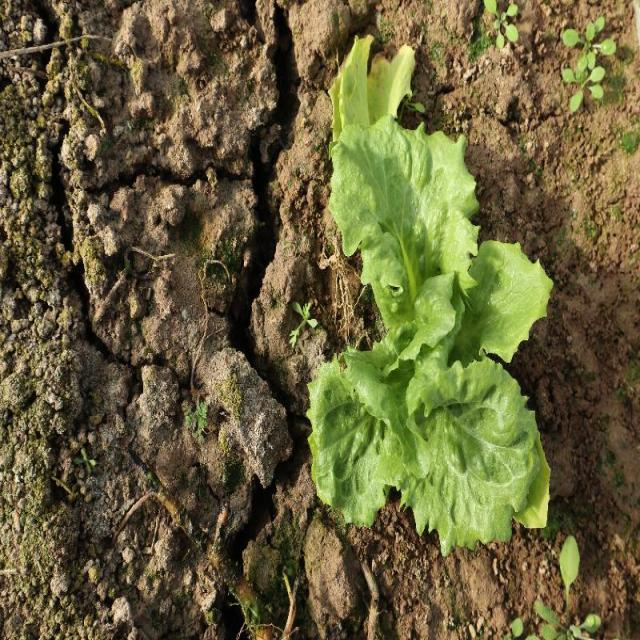crop: (310, 122, 553, 546)
